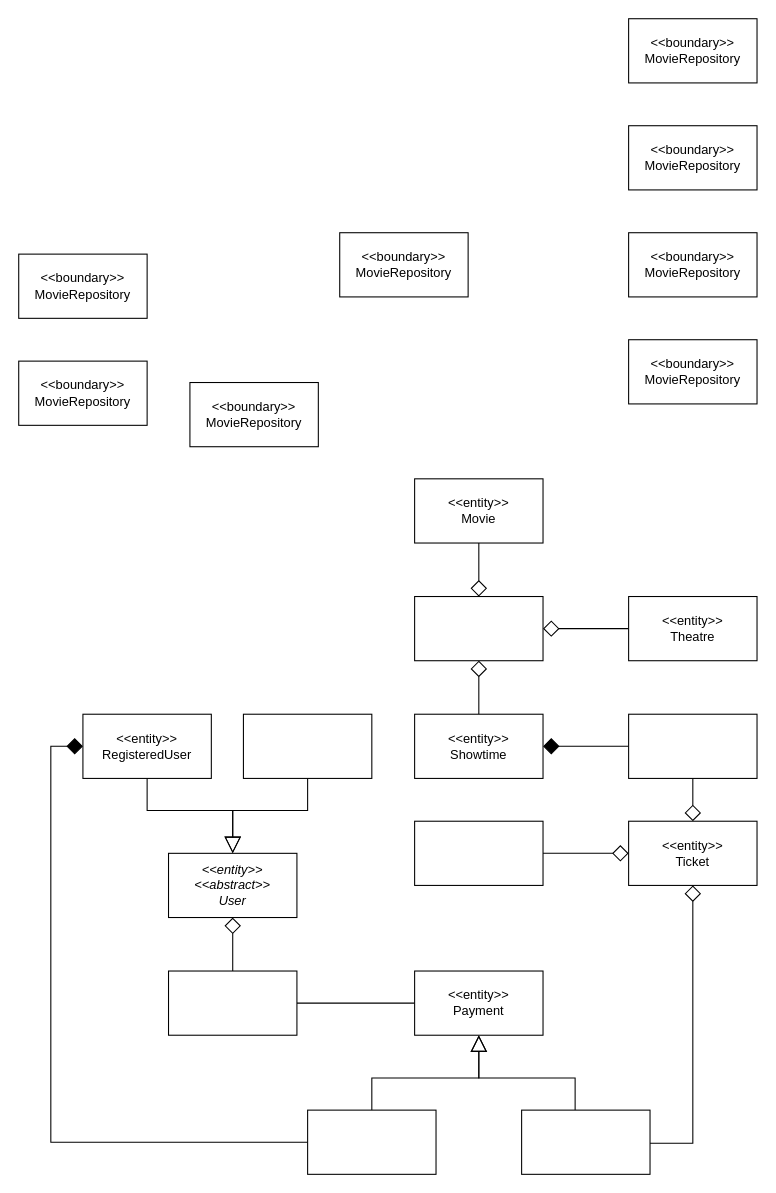
This 776x1193 diagram has some shape labels left out. The centre of each missing label's shape, as x and y in pixels:
"<<entity>> AnnualPayment" belongs at [371,1141].
"<<entity>> Card" belongs at [232,1002].
"<<entity>> Credit" belongs at [478,852].
"<<entity>> GuestUser" belongs at [307,745].
"<<entity>> Seat" belongs at [692,745].
"<<entity>> Showing" belongs at [478,628].
"<<entity>> TicketPayment" belongs at [585,1141].
